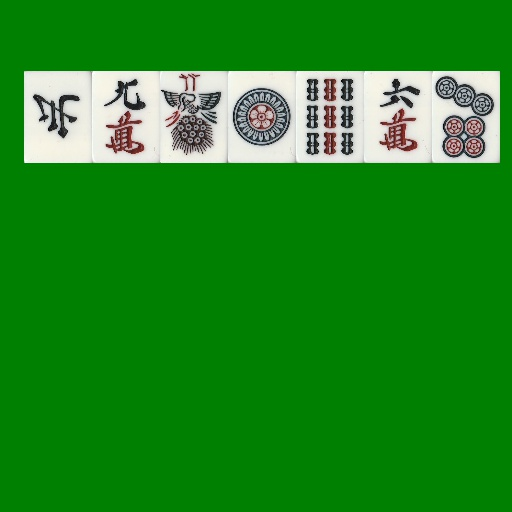1p: (228, 71, 296, 163)
1s: (160, 71, 228, 163)
6m: (364, 71, 432, 163)
7p: (432, 71, 500, 163)
9m: (92, 71, 160, 163)
9s: (296, 71, 364, 163)
north: (24, 71, 92, 163)
